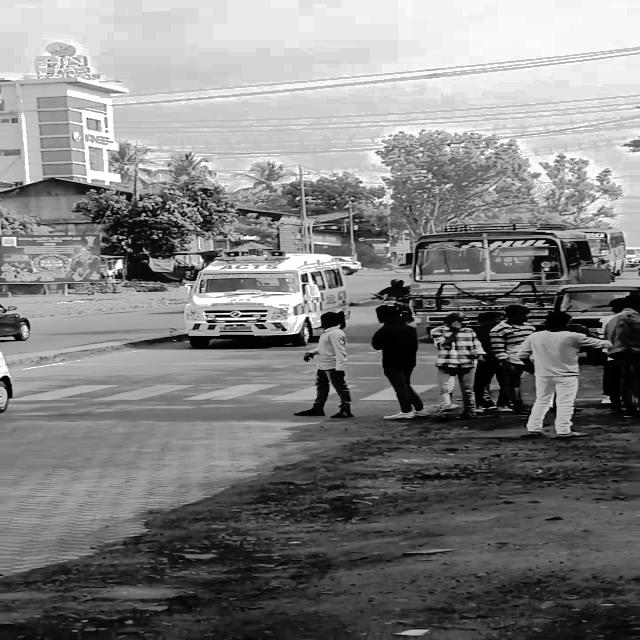Ambulance: (175, 247, 356, 349)
